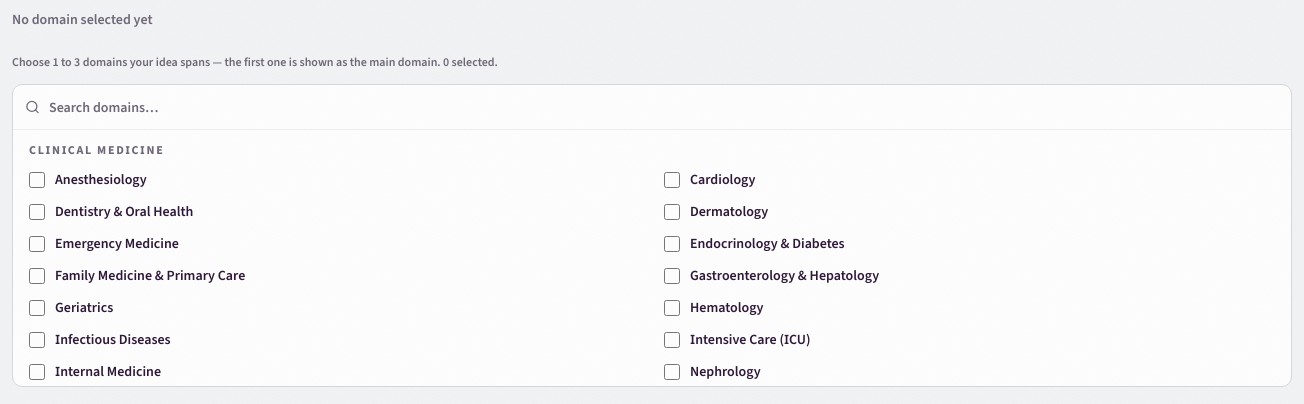
Test case: DomainPicker › narrows the list to the search text
Type "midw" into the search field.
click(652, 107); type("midw")  # box [13,85,1291,129]
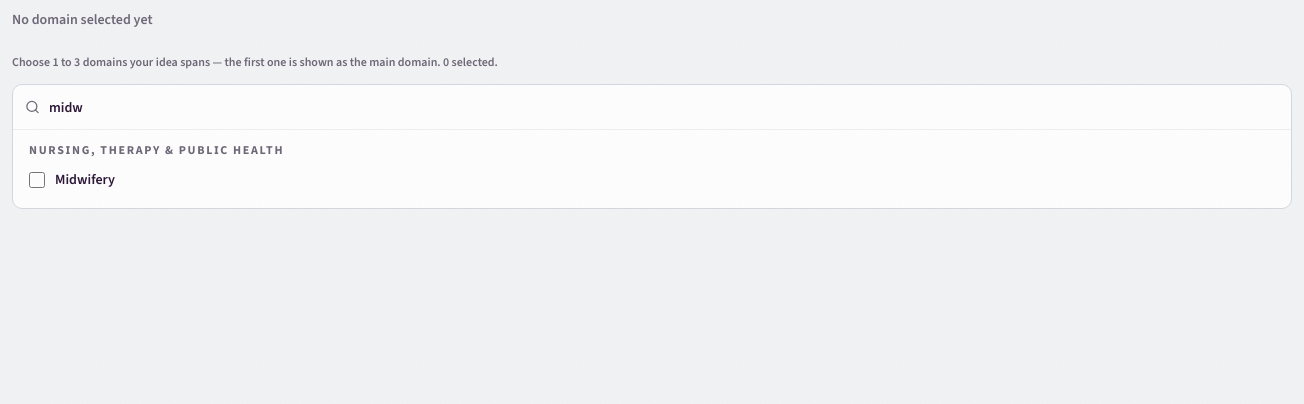
Expected: the checkbox labelled "Midwifery" is shown, [29,172,45,188]
Expected: the label "Cardiology" is gone
